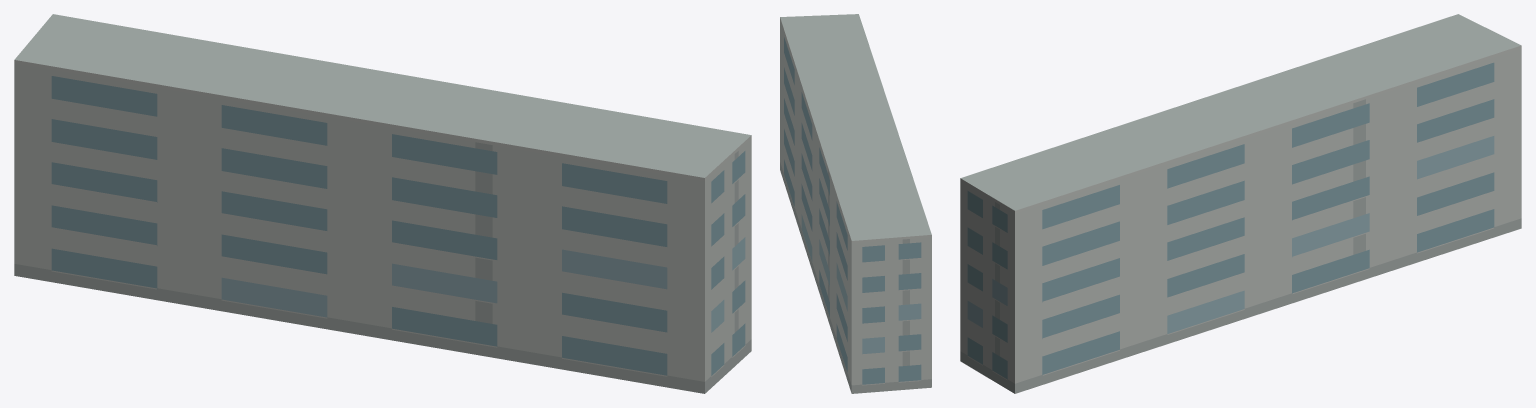
Rendered from survey-upis-33042741.glb.
3 renders of one model, left to right at view 1: azimuth 30°, elevation 25°; view 2: azimuth 150°, elevation 25°; view 3: azimuth 270°, elevation 25°, orthographic. The views are drawn at different scales.
Visible parts, largest first — view 1: survey-upis-33042741.tmp; view 2: survey-upis-33042741.tmp; view 3: survey-upis-33042741.tmp.
Boxes of the visible parts, x1,y1,x2,y2 form: survey-upis-33042741.tmp: (14,14,751,393); survey-upis-33042741.tmp: (780,14,931,393); survey-upis-33042741.tmp: (960,14,1521,393).
Bounding box in the file's own units: 35.18 × 15.25 × 42.38.
